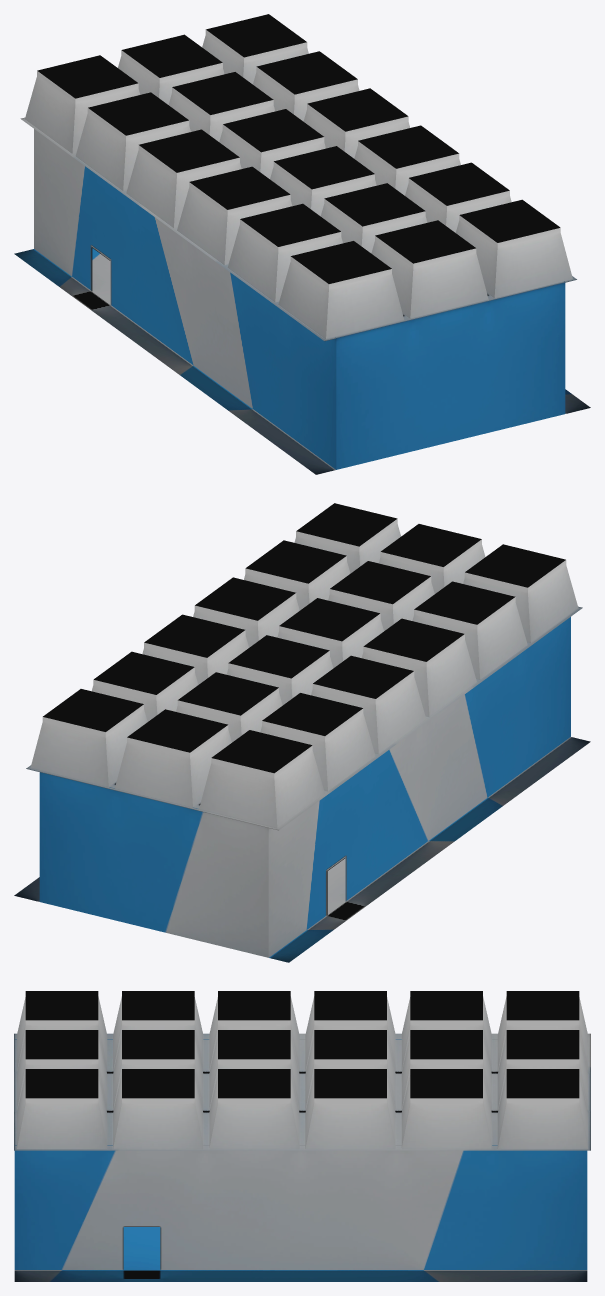
File: parkMap.glb
3 renders of one model, top to bottom at view 1: azimuth 30°, elevation 25°; view 2: azimuth 150°, elevation 25°; view 3: azimuth 270°, elevation 25°, orthographic. The views are drawn at different scales.
Visible parts, largest first — view 1: VR Gallery.Roof; view 2: VR Gallery.Roof; view 3: VR Gallery.Roof.
Part boxes in pixels (left/top/right/bottom): VR Gallery.Roof: left=14, top=14, right=590, bottom=474; VR Gallery.Roof: left=14, top=503, right=590, bottom=962; VR Gallery.Roof: left=14, top=991, right=590, bottom=1281.
Bounding box in the file's own units: 13.04 × 8.24 × 25.
Materials: 1 (1 with a texture image).
